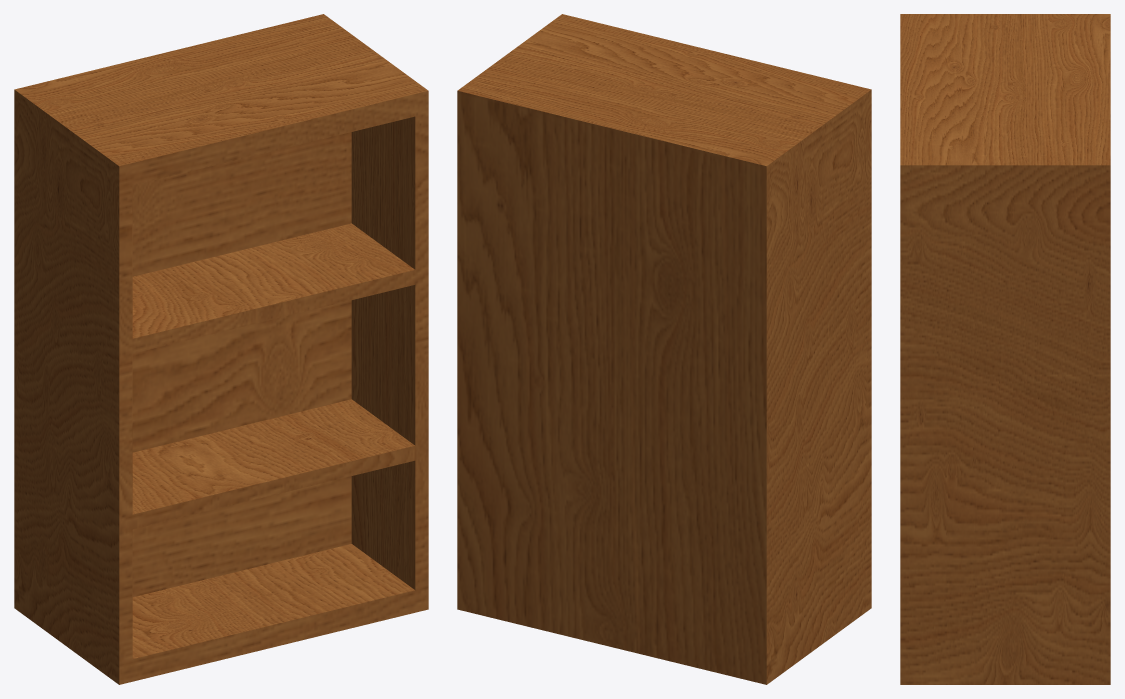
The model's file is Cabinet3_Textured.fbx.
The picture shows the model from 3 angles, left to right: view 1: azimuth 30°, elevation 25°; view 2: azimuth 150°, elevation 25°; view 3: azimuth 270°, elevation 25°; orthographic projection.
Visible parts, largest first — view 1: pCube1; view 2: pCube1; view 3: pCube1.
Part boxes in pixels (x1,y1,x2,y2): pCube1: (14, 14, 428, 684); pCube1: (457, 14, 871, 684); pCube1: (900, 14, 1110, 684).
Size of the model in its own units: 3.46 by 5.54 by 2.03.
1 material, 1 textured.
